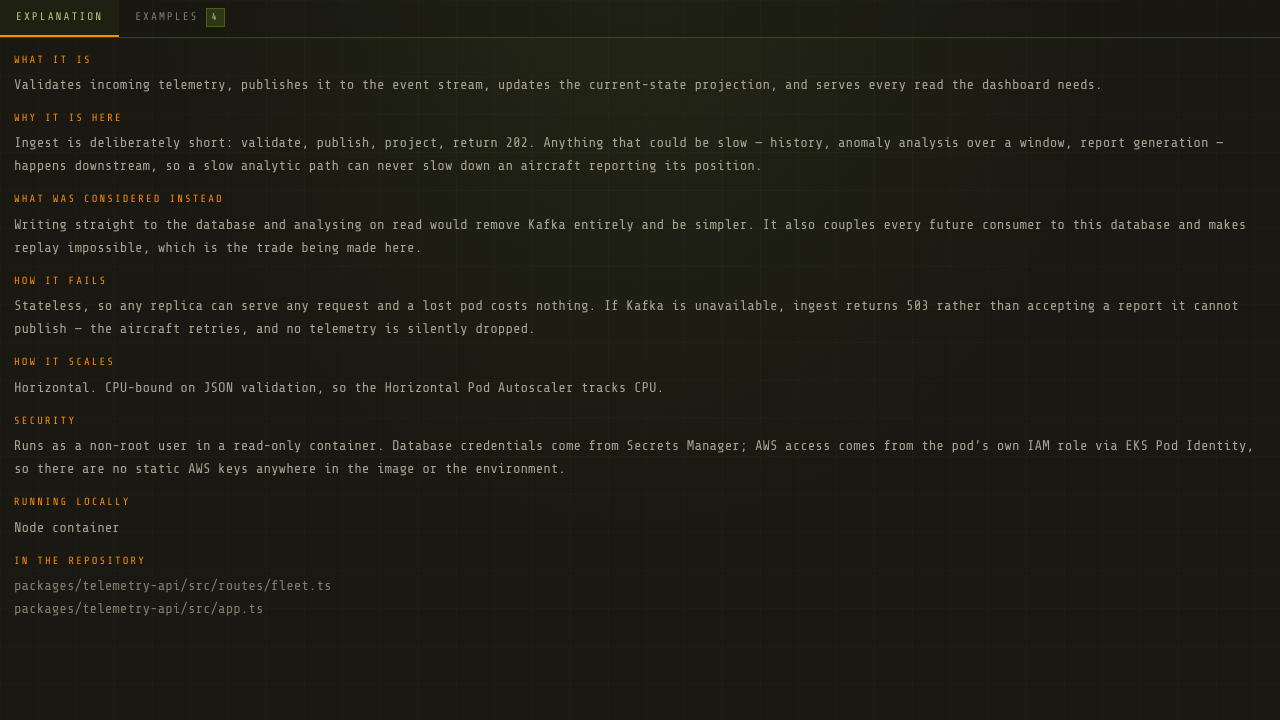
the rendered examples › numbers lines from the real position in the file
Click the tab "Examples 4".
click(180, 18)  # box [119, 0, 241, 36]
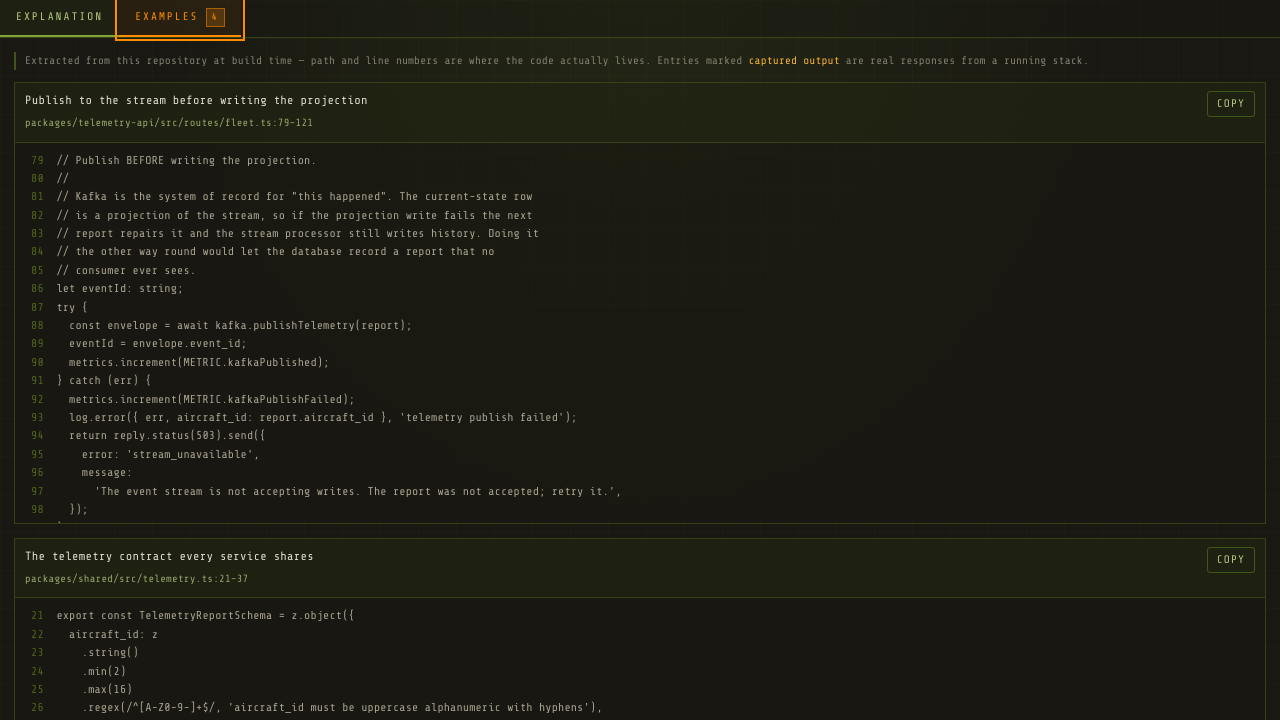
Result: the text "79" is shown at [31, 154, 44, 166]
